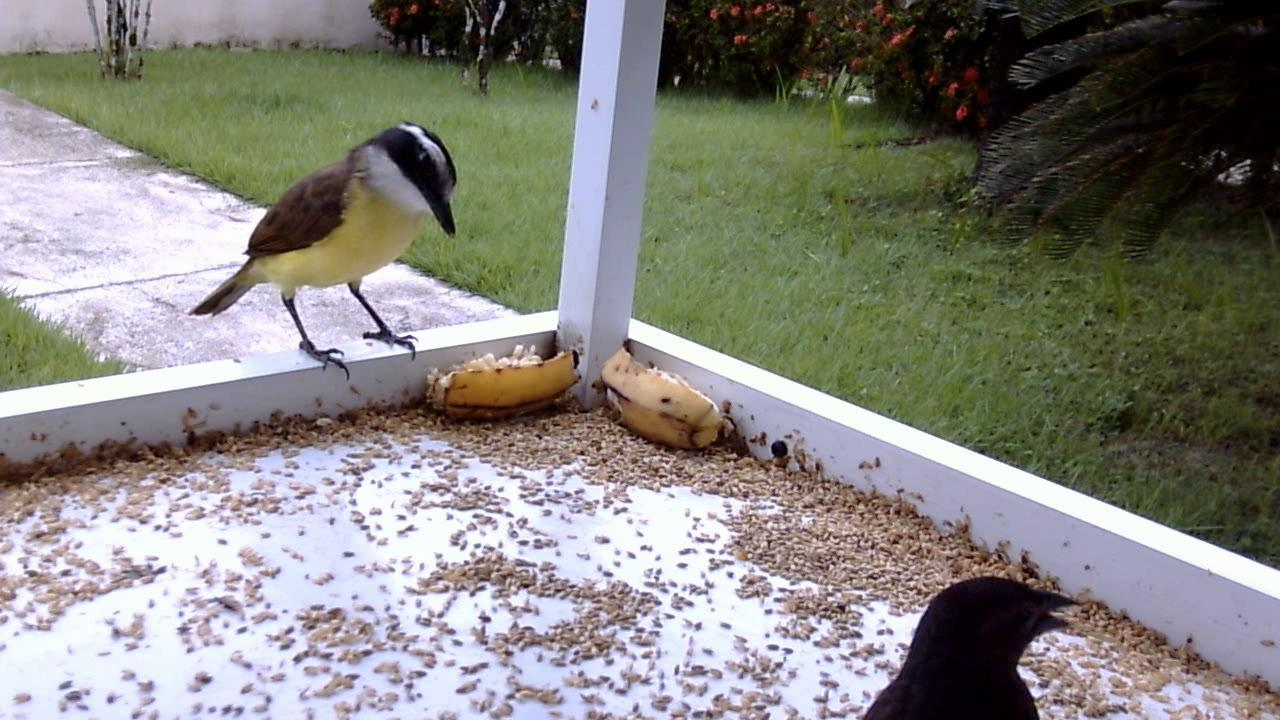bem_te_vi: (182, 114, 462, 388)
chupim: (848, 568, 1081, 720)
